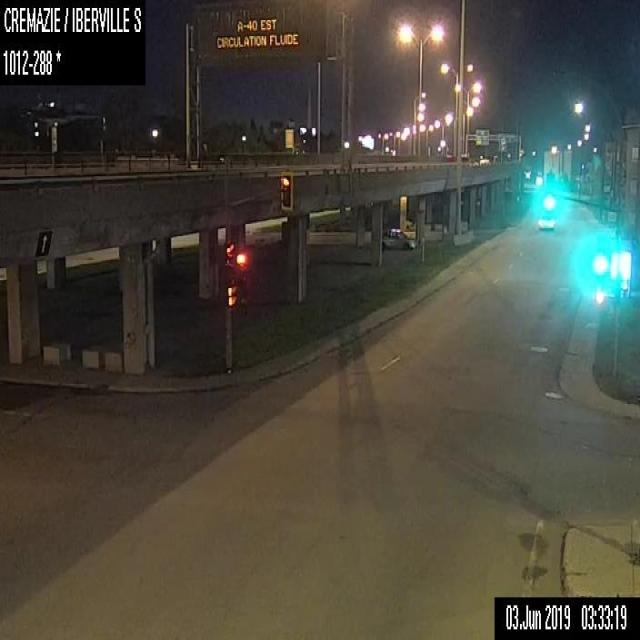vehicle: (379, 227, 417, 248), (536, 211, 556, 229), (479, 157, 491, 165)
